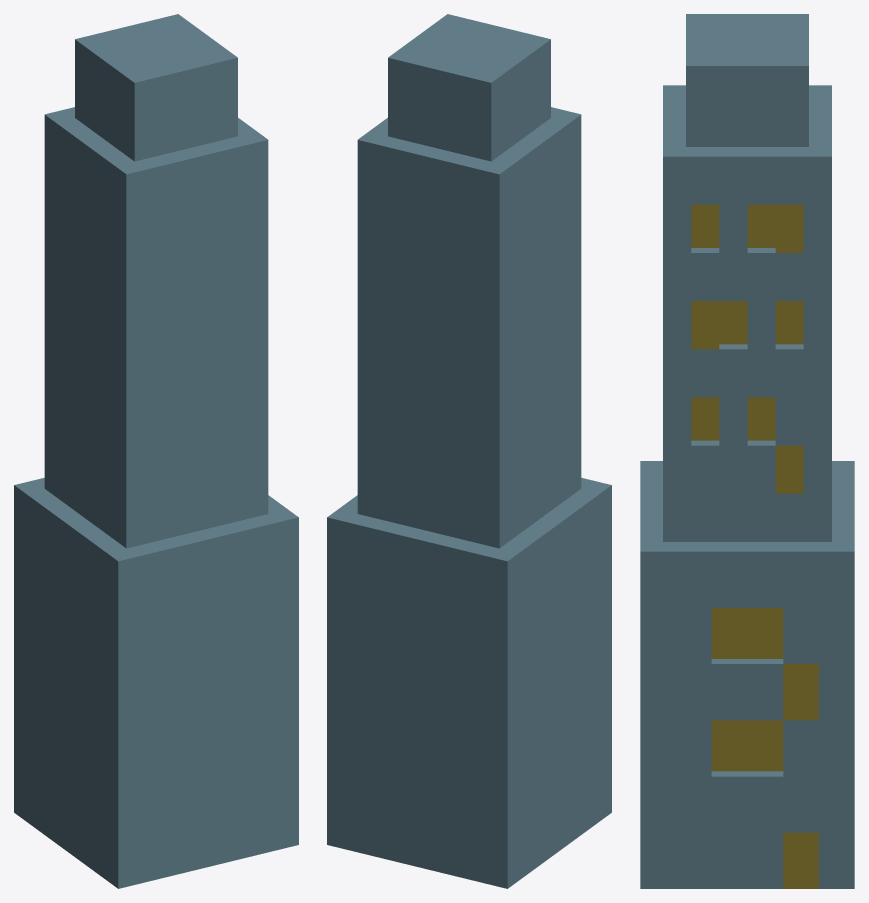
File: prost hata.fbx
The picture shows the model from 3 angles, left to right: view 1: azimuth 30°, elevation 25°; view 2: azimuth 150°, elevation 25°; view 3: azimuth 270°, elevation 25°; orthographic projection. The views are drawn at different scales.
Visible parts, largest first — view 1: Cube; view 2: Cube; view 3: Cube.
Part boxes in pixels (<box>): Cube: <box>14,14,298,888</box>; Cube: <box>327,14,611,888</box>; Cube: <box>640,14,854,888</box>.
Bounding box in the file's own units: 1189 × 4912 × 1189.
